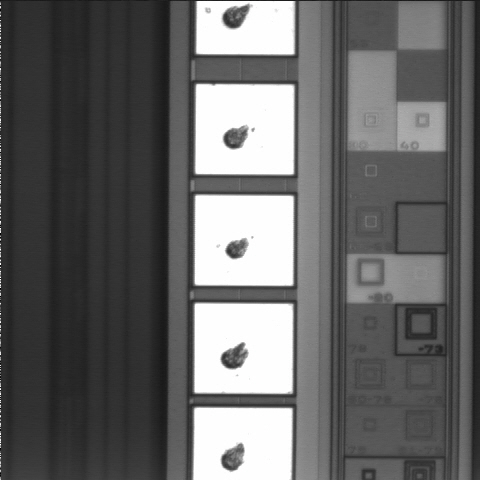pad: (195, 195, 294, 286), (194, 303, 293, 394), (195, 84, 294, 174)
